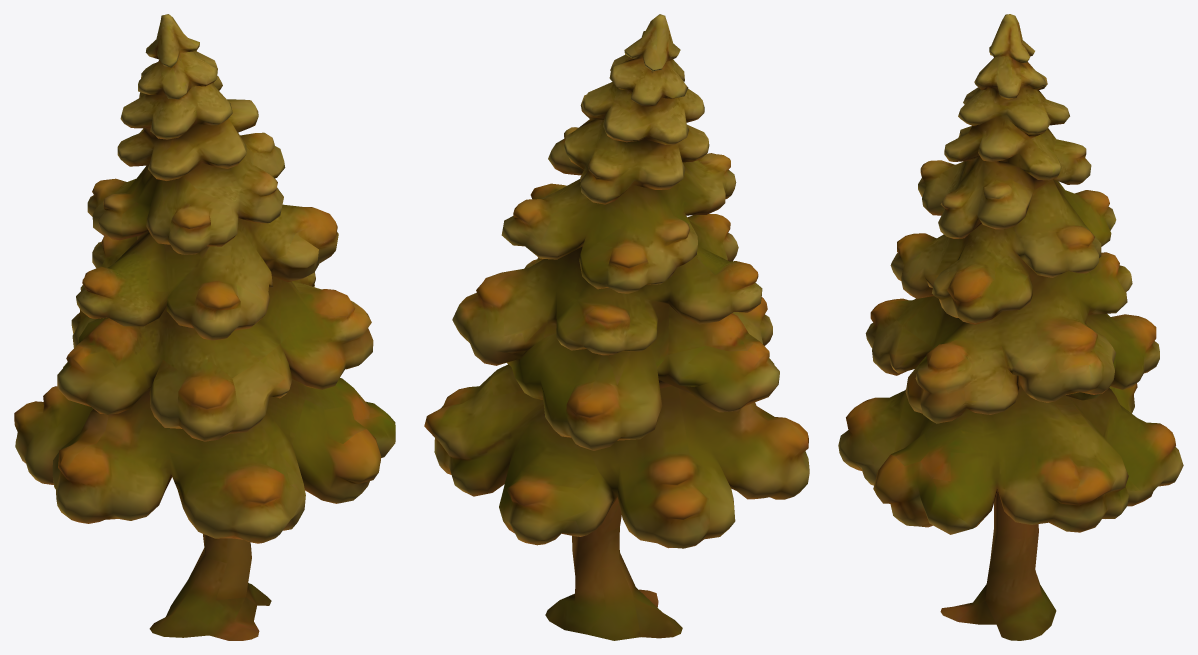
File: pine_4.glb
The picture shows the model from 3 angles, left to right: view 1: azimuth 30°, elevation 25°; view 2: azimuth 150°, elevation 25°; view 3: azimuth 270°, elevation 25°; orthographic projection. The views are drawn at different scales.
Parts seen in each view (by area): view 1: tripo_node_434ce184-295f-46c9-90f7-46c07998c944; view 2: tripo_node_434ce184-295f-46c9-90f7-46c07998c944; view 3: tripo_node_434ce184-295f-46c9-90f7-46c07998c944.
Part boxes in pixels (x1,y1,x2,y2): tripo_node_434ce184-295f-46c9-90f7-46c07998c944: (14,14,395,640); tripo_node_434ce184-295f-46c9-90f7-46c07998c944: (424,14,809,640); tripo_node_434ce184-295f-46c9-90f7-46c07998c944: (838,14,1183,640).
Size of the model in its own units: 5.61 by 10.2 by 5.53.
1 material, 1 textured.
